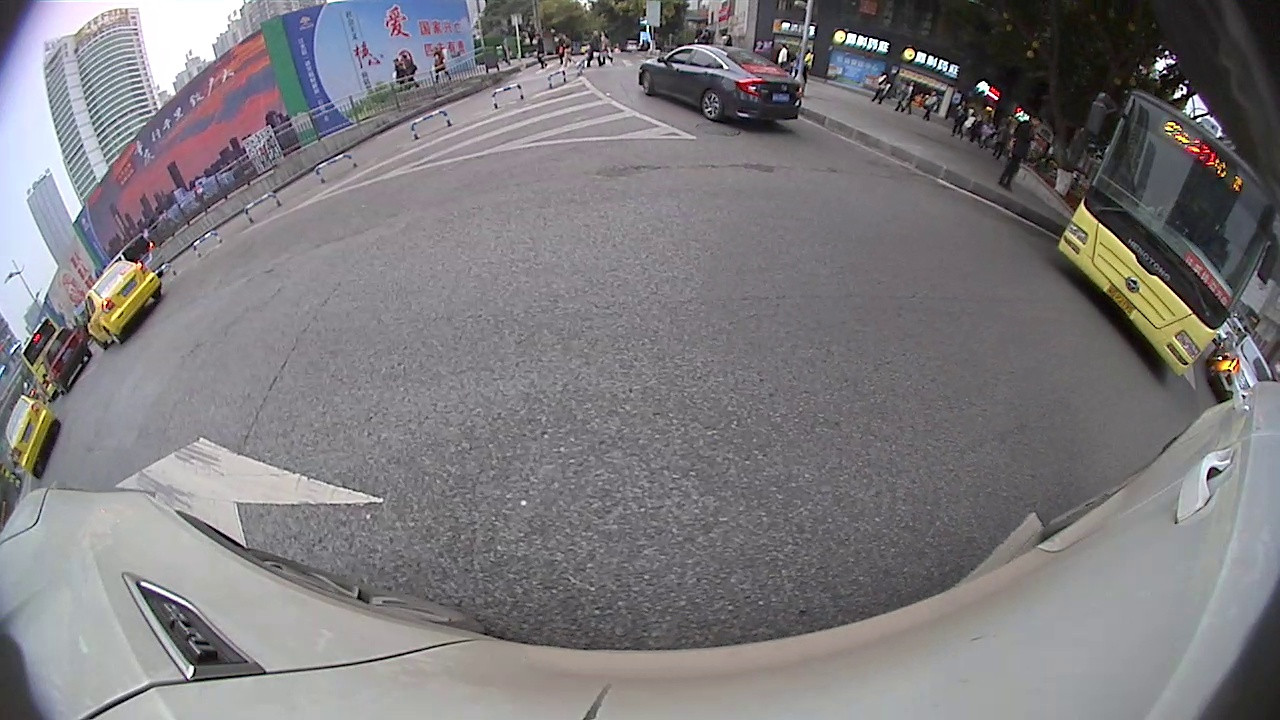bus: (1057, 88, 1278, 380), (21, 313, 59, 394)
car: (637, 42, 803, 123), (84, 259, 163, 351), (3, 393, 63, 481), (1210, 332, 1279, 406), (103, 233, 167, 300), (42, 326, 93, 393)
front: (638, 70, 656, 98)
person: (1018, 110, 1035, 194)
rear: (697, 91, 727, 121)
